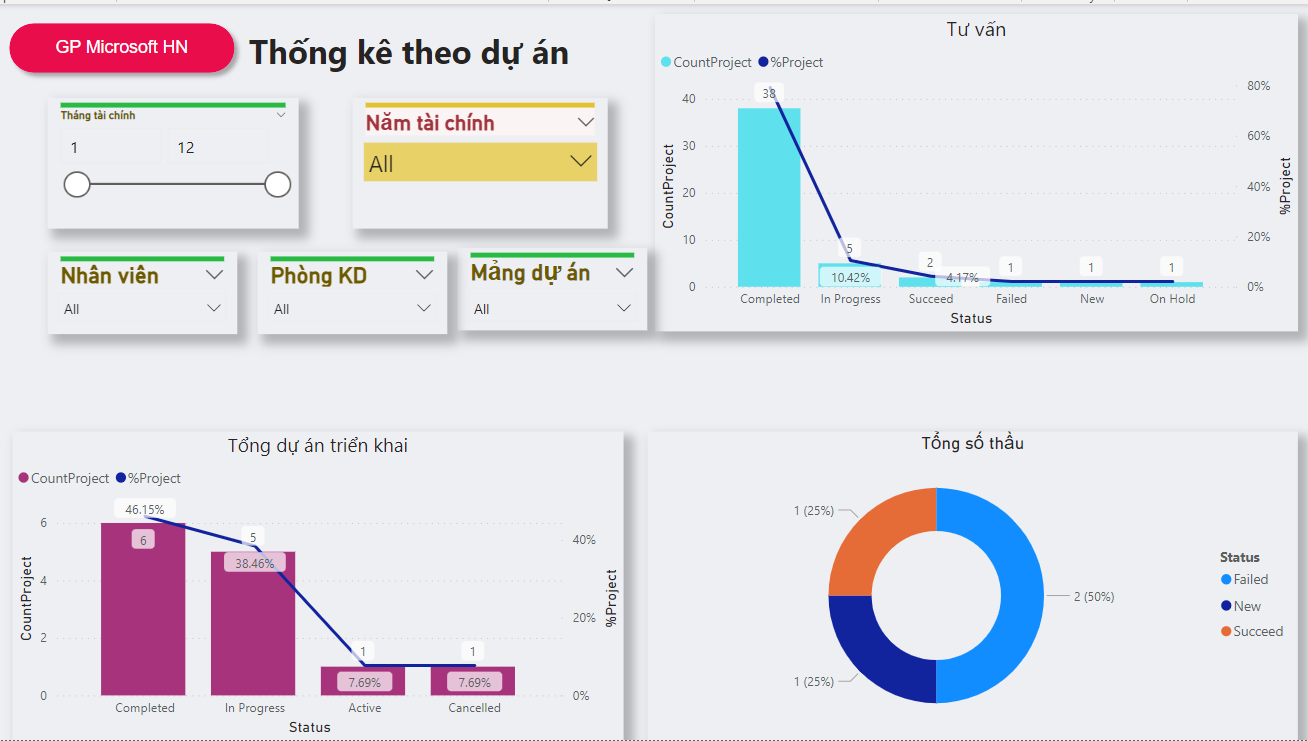

The page's visual inventory and layout, read from the dashboard file:
{"tool":"powerbi","page":{"name":"Dự án 1","canvas":[1280,720],"ordinal":5},"visuals":[{"type":"textbox","box":[239,19.2,374.9,112.6],"z":4000},{"type":"clusteredColumnChart","title":"Tư vấn","fields":{"Y":["Count(DuAn.WorkID)"],"Category":["DuAn.Status"]},"box":[640,9.6,629,310.4],"z":5000},{"type":"donutChart","title":"Tổng số thầu","fields":{"Category":["DuAn.Status"],"Y":["CountNonNull(DuAn.WorkID)"]},"box":[633.1,417.5,635.9,302.1],"z":7000},{"type":"clusteredColumnChart","title":"Tổng dự án triển khai","fields":{"Category":["DuAn.Status"],"Y":["Count(DuAn.WorkID)"]},"box":[12.4,417.5,597.4,302.1],"z":8000},{"type":"shape","box":[0,9.8,238.4,66],"z":9000},{"type":"slicer","fields":{"Values":["NhanVien.TenNhanVien"]},"box":[56.3,240.3,182.7,81],"z":9001},{"type":"slicer","fields":{"Values":["DuAn.PhongKD"]},"box":[240.3,241.7,186.8,81],"z":9002},{"type":"slicer","fields":{"Values":["Date2.Thang"]},"box":[56.4,96.5,245.8,127.7],"z":9003},{"type":"slicer","fields":{"Values":["Date2.Nam"]},"box":[322.9,96.5,250,127.7],"z":9004},{"type":"slicer","fields":{"Values":["DuAn_Component.Component"]},"box":[447.7,239,185.4,81],"z":9005}]}

Visuals, with their boxes in screenshot pixels (x1, y1, x2, y2), scaled from the page's 1280x720 canvas onto the 1308x741 screenshot:
textbox: [left=244, top=20, right=627, bottom=136]
"Tư vấn" clusteredColumnChart: [left=654, top=10, right=1297, bottom=329]
"Tổng số thầu" donutChart: [left=647, top=430, right=1297, bottom=740]
"Tổng dự án triển khai" clusteredColumnChart: [left=13, top=430, right=623, bottom=740]
shape: [left=0, top=10, right=244, bottom=78]
slicer - NhanVien.TenNhanVien: [left=58, top=247, right=244, bottom=331]
slicer - DuAn.PhongKD: [left=246, top=249, right=436, bottom=332]
slicer - Date2.Thang: [left=58, top=99, right=309, bottom=231]
slicer - Date2.Nam: [left=330, top=99, right=585, bottom=231]
slicer - DuAn_Component.Component: [left=457, top=246, right=647, bottom=329]
